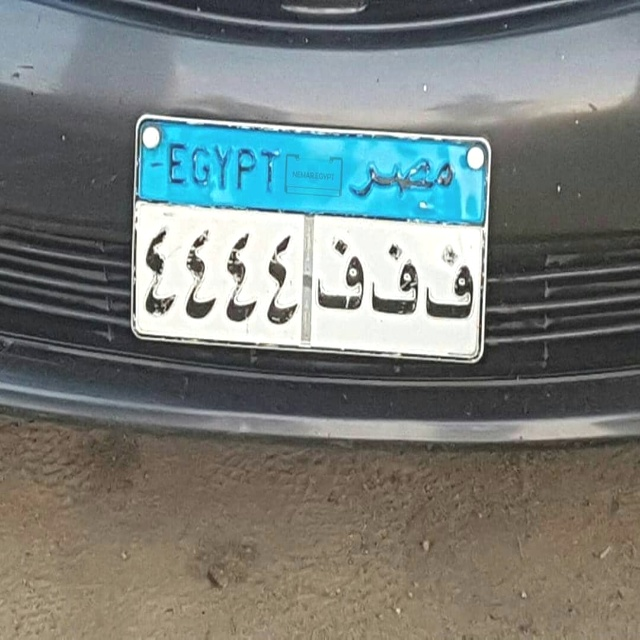License Plate: (129, 107, 497, 378)
